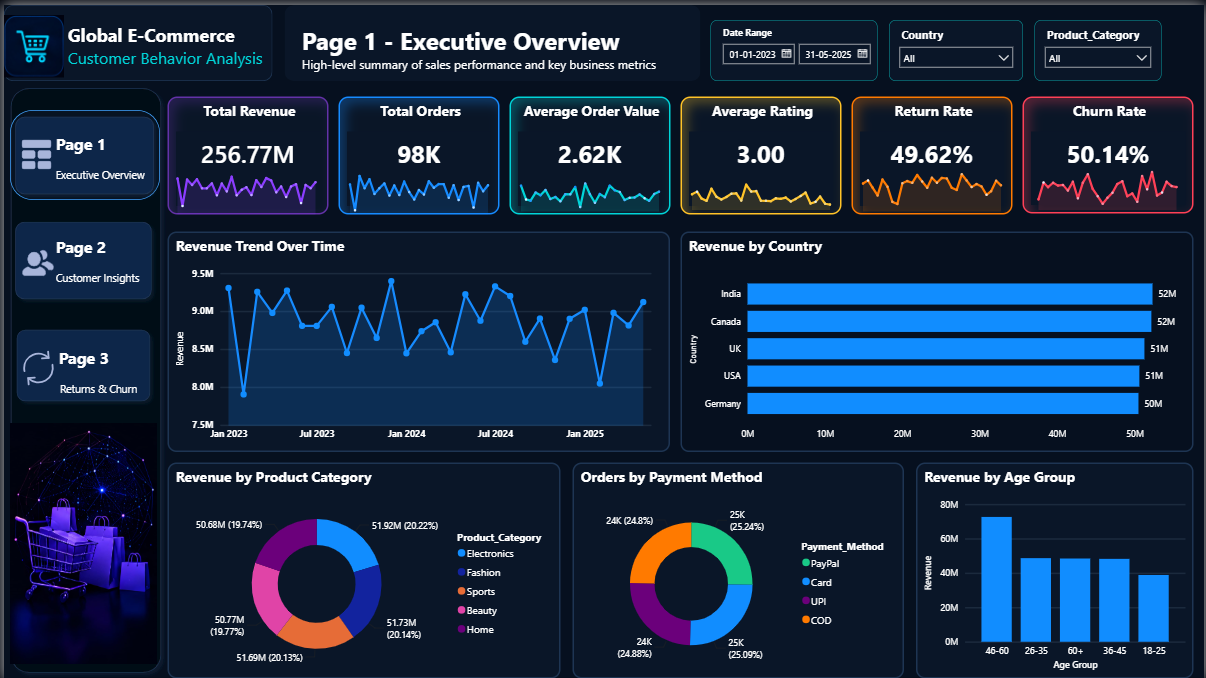

The dashboard page shown, as its layout file describes it:
{"tool":"powerbi","page":{"name":"Page 1","canvas":[1600,900],"ordinal":0},"visuals":[{"type":"shape","box":[0,0,357.9,101.4],"z":0},{"type":"textbox","box":[391.7,19.9,536.8,81.5],"z":0,"group":"g1"},{"type":"shape","box":[6,140,202.8,121.3],"z":0,"group":"g3"},{"type":"shape","box":[6,280,200,121.3],"z":0,"group":"g2"},{"type":"shape","box":[8,424,196,113.3],"z":0,"group":"g4"},{"type":"shape","box":[0,101.4,218.7,797.3],"z":1000},{"type":"cardVisual","title":"Total Revenue","fields":{"Data":["ecommerce_analysis orders.Total Revenue"]},"box":[218.7,121.3,214.7,157.1],"z":1000,"group":"g1"},{"type":"textbox","box":[64,164.8,152,96],"z":1000,"group":"g3"},{"type":"textbox","box":[63.2,302,142,100],"z":1000,"group":"g2"},{"type":"textbox","box":[62.1,450.2,139.2,87.8],"z":1000,"group":"g4"},{"type":"cardVisual","title":"Total Orders","fields":{"Data":["ecommerce_analysis orders.Total Orders"]},"box":[446.6,121.3,214.7,157.1],"z":2000,"group":"g1"},{"type":"textbox","box":[80,0,278,140],"z":3000},{"type":"cardVisual","title":"Average Order Value","fields":{"Data":["Avg(ecommerce_analysis orders.Total_Spent)"]},"box":[674.4,121.3,214.7,157.1],"z":3000,"group":"g1"},{"type":"cardVisual","title":"Average Rating","fields":{"Data":["Avg(ecommerce_analysis orders.Customer_Rating)"]},"box":[902.3,121.3,214.7,157.1],"z":4000,"group":"g1"},{"type":"shape","title":"highlight page1","box":[8,140,200,120],"z":4000},{"type":"shape","box":[373.8,0,554.7,101.4],"z":5000},{"type":"cardVisual","title":"Return Rate","fields":{"Data":["ecommerce_analysis orders.Return Rate"]},"box":[1130.1,121.3,214.7,157.1],"z":5000,"group":"g1"},{"type":"cardVisual","title":"Churn Rate","fields":{"Data":["ecommerce_analysis orders.Churn Rate"]},"box":[1358,122,228,156],"z":6000,"group":"g1"},{"type":"slicer","fields":{"Values":["ecommerce_analysis orders.Order_Date"]},"box":[942.4,19.9,222.7,81.5],"z":7000},{"type":"lineChart","title":"Revenue Trend Over Time","fields":{"Y":["ecommerce_analysis orders.Total Revenue"],"Category":["ecommerce_analysis orders.Order_Date.Variation.Date Hierarchy.Year","ecommerce_analysis orders.Order_Date.Variation.Date Hierarchy.Month"]},"box":[218,302,670,294],"z":7000,"group":"g1"},{"type":"slicer","fields":{"Values":["ecommerce_analysis orders.Country"]},"box":[1179,19.9,178.9,81.5],"z":8000},{"type":"donutChart","title":"Revenue by Product Category","fields":{"Y":["ecommerce_analysis orders.Total Revenue"],"Category":["ecommerce_analysis orders.Product_Category"]},"box":[218,610,524,288],"z":8000,"group":"g1"},{"type":"slicer","fields":{"Values":["ecommerce_analysis orders.Product_Category"]},"box":[1373.9,19.9,169,81.5],"z":9000},{"type":"donutChart","title":" Orders by Payment Method","fields":{"Category":["ecommerce_analysis orders.Payment_Method"],"Y":["ecommerce_analysis orders.Total Orders"]},"box":[758,610,442,288],"z":9000,"group":"g1"},{"type":"group","id":"g1","title":"PAGE 1 VISUAL","box":[216,19.9,1370,878.1],"z":10000},{"type":"clusteredColumnChart","title":"Revenue by Age Group","fields":{"Category":["ecommerce_analysis orders.Age_Group"],"Y":["ecommerce_analysis orders.Total Revenue"]},"box":[1216,610,370,288],"z":10000,"group":"g1"},{"type":"lineChart","fields":{"Category":["ecommerce_analysis orders.Order_Date.Variation.Date Hierarchy.Year","ecommerce_analysis orders.Order_Date.Variation.Date Hierarchy.Month"],"Y":["ecommerce_analysis orders.Total Orders"]},"box":[446,212,214,72],"z":10250,"group":"g1"},{"type":"lineChart","fields":{"Y":["ecommerce_analysis orders.Total Revenue"],"Category":["ecommerce_analysis orders.Order_Date.Variation.Date Hierarchy.Year","ecommerce_analysis orders.Order_Date.Variation.Date Hierarchy.Month"]},"box":[216,212,214,72],"z":10500,"group":"g1"},{"type":"lineChart","fields":{"Category":["ecommerce_analysis orders.Order_Date.Variation.Date Hierarchy.Year","ecommerce_analysis orders.Order_Date.Variation.Date Hierarchy.Month"],"Y":["ecommerce_analysis orders.Average Customer Rating"]},"box":[902,206,214,72],"z":10625,"group":"g1"},{"type":"lineChart","fields":{"Category":["ecommerce_analysis orders.Order_Date.Variation.Date Hierarchy.Year","ecommerce_analysis orders.Order_Date.Variation.Date Hierarchy.Month"],"Y":["ecommerce_analysis orders.Return Rate"]},"box":[1130,208,214,72],"z":10687,"group":"g1"},{"type":"lineChart","fields":{"Category":["ecommerce_analysis orders.Order_Date.Variation.Date Hierarchy.Year","ecommerce_analysis orders.Order_Date.Variation.Date Hierarchy.Month"],"Y":["ecommerce_analysis orders.Churn Rate"]},"box":[1364,206,214,72],"z":10718,"group":"g1"},{"type":"lineChart","fields":{"Category":["ecommerce_analysis orders.Order_Date.Variation.Date Hierarchy.Year","ecommerce_analysis orders.Order_Date.Variation.Date Hierarchy.Month"],"Y":["ecommerce_analysis orders.Avg Order Value"]},"box":[674,208,214,72],"z":10750,"group":"g1"},{"type":"clusteredBarChart","title":"Revenue by Country","fields":{"Category":["ecommerce_analysis orders.Country"],"Y":["ecommerce_analysis orders.Total Revenue"]},"box":[902,302,684,294],"z":11000,"group":"g1"},{"type":"group","id":"g2","title":"page2","box":[6,280,200,122],"z":13000},{"type":"group","id":"g3","title":"page1","box":[6,140,210,120],"z":14000},{"type":"group","id":"g4","title":"page3","box":[8,424,196,114],"z":15000},{"type":"actionButton","box":[24,152,170,96],"z":16000},{"type":"actionButton","box":[22,294,170,100],"z":17000},{"type":"actionButton","box":[24,438,170,90],"z":18000},{"type":"image","box":[8,538,196,360],"z":19000},{"type":"image","box":[0,8,80,94],"z":19001},{"type":"image","box":[12,294,68,100],"z":19005},{"type":"image","box":[12,160,64,80],"z":19006},{"type":"image","box":[14,458,64,52],"z":19007}]}

Visuals, with their boxes in screenshot pixels (x1, y1, x2, y2), scaled from the page's 1600x900 canvas onto the 1206x678 screenshot:
shape: l=0, t=0, r=270, b=76
textbox: l=295, t=15, r=700, b=76
shape: l=5, t=105, r=157, b=197
shape: l=5, t=211, r=155, b=302
shape: l=6, t=319, r=154, b=405
shape: l=0, t=76, r=165, b=677
"Total Revenue" cardVisual: l=165, t=91, r=327, b=210
textbox: l=48, t=124, r=163, b=196
textbox: l=48, t=228, r=155, b=303
textbox: l=47, t=339, r=152, b=405
"Total Orders" cardVisual: l=337, t=91, r=498, b=210
textbox: l=60, t=0, r=270, b=105
"Average Order Value" cardVisual: l=508, t=91, r=670, b=210
"Average Rating" cardVisual: l=680, t=91, r=842, b=210
"highlight page1" shape: l=6, t=105, r=157, b=196
shape: l=282, t=0, r=700, b=76
"Return Rate" cardVisual: l=852, t=91, r=1014, b=210
"Churn Rate" cardVisual: l=1024, t=92, r=1195, b=209
slicer - ecommerce_analysis orders.Order_Date: l=710, t=15, r=878, b=76
"Revenue Trend Over Time" lineChart: l=164, t=228, r=669, b=449
slicer - ecommerce_analysis orders.Country: l=889, t=15, r=1024, b=76
"Revenue by Product Category" donutChart: l=164, t=460, r=559, b=676
slicer - ecommerce_analysis orders.Product_Category: l=1036, t=15, r=1163, b=76
" Orders by Payment Method" donutChart: l=571, t=460, r=904, b=676
"PAGE 1 VISUAL" group: l=163, t=15, r=1195, b=676
"Revenue by Age Group" clusteredColumnChart: l=917, t=460, r=1195, b=676
lineChart - ecommerce_analysis orders.Order_Date.Variation.Date Hierarchy.Year x ecommerce_analysis orders.Order_Date.Variation.Date Hierarchy.Month: l=336, t=160, r=497, b=214
lineChart - ecommerce_analysis orders.Total Revenue x ecommerce_analysis orders.Order_Date.Variation.Date Hierarchy.Year: l=163, t=160, r=324, b=214
lineChart - ecommerce_analysis orders.Order_Date.Variation.Date Hierarchy.Year x ecommerce_analysis orders.Order_Date.Variation.Date Hierarchy.Month: l=680, t=155, r=841, b=209
lineChart - ecommerce_analysis orders.Order_Date.Variation.Date Hierarchy.Year x ecommerce_analysis orders.Order_Date.Variation.Date Hierarchy.Month: l=852, t=157, r=1013, b=211
lineChart - ecommerce_analysis orders.Order_Date.Variation.Date Hierarchy.Year x ecommerce_analysis orders.Order_Date.Variation.Date Hierarchy.Month: l=1028, t=155, r=1189, b=209
lineChart - ecommerce_analysis orders.Order_Date.Variation.Date Hierarchy.Year x ecommerce_analysis orders.Order_Date.Variation.Date Hierarchy.Month: l=508, t=157, r=669, b=211
"Revenue by Country" clusteredBarChart: l=680, t=228, r=1195, b=449
"page2" group: l=5, t=211, r=155, b=303
"page1" group: l=5, t=105, r=163, b=196
"page3" group: l=6, t=319, r=154, b=405
actionButton: l=18, t=115, r=146, b=187
actionButton: l=17, t=221, r=145, b=297
actionButton: l=18, t=330, r=146, b=398
image: l=6, t=405, r=154, b=676
image: l=0, t=6, r=60, b=77
image: l=9, t=221, r=60, b=297
image: l=9, t=121, r=57, b=181
image: l=11, t=345, r=59, b=384
